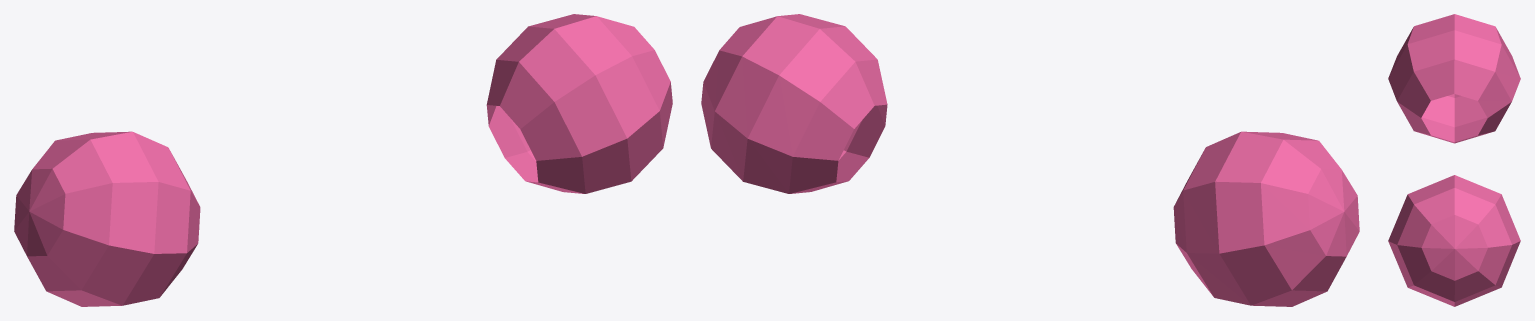
The model's file is BR_Croagunk-Shiny03.obj.
3 renders of one model, left to right at view 1: azimuth 30°, elevation 25°; view 2: azimuth 150°, elevation 25°; view 3: azimuth 270°, elevation 25°, orthographic. The views are drawn at different scales.
Parts seen in each view (by area): view 1: gureggru; view 2: gureggru; view 3: gureggru.
Part boxes in pixels (x1,y1,x2,y2): gureggru: [14, 14, 672, 306]; gureggru: [701, 14, 1359, 306]; gureggru: [1388, 14, 1520, 306].
Bounding box in the file's own units: 4.98 × 1.26 × 1.29.
1 material, 1 textured.
